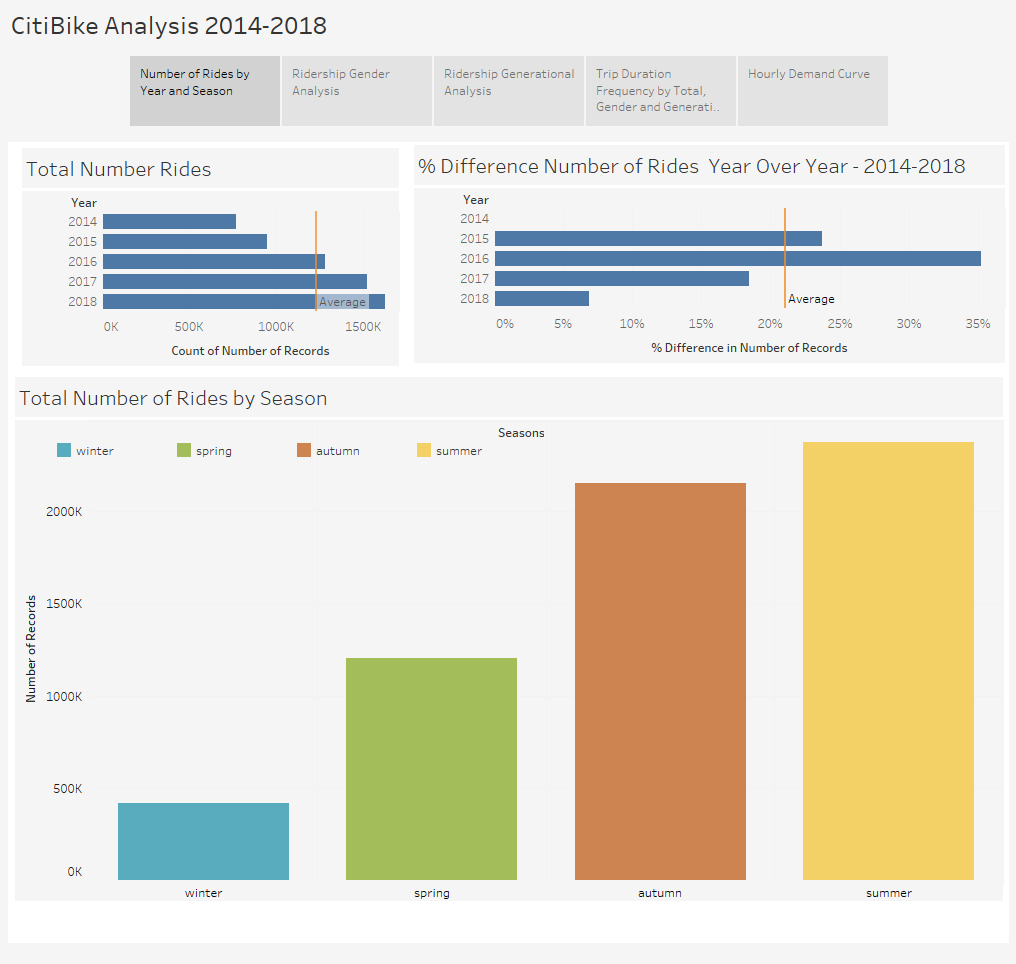

This screenshot's page, from the dashboard's own definition file:
{"tool":"tableau","page":{"name":"Dashboard 2","canvas":[1000,800],"ordinal":0},"visuals":[{"type":"worksheet","title":"% Difference Number of Rides  Year Over Year - 2014-2018","mark":"Automatic","rows":["Year"],"box":[406,3,591,252]},{"type":"worksheet","title":"Total Number Rides","mark":"Automatic","rows":["Year"],"cols":["Number of Records"],"box":[14,6,388,255]},{"type":"worksheet","title":"Total Number of Rides by Season","mark":"Automatic","rows":["Number of Records"],"cols":["Seasons"],"box":[7,235,988,524]},{"type":"legend","title":"Total Number of Rides by Season","param":"[federated.0h4x5iq1kgljpg14seqdx17qmbxy].[none:Seasons:nk]","box":[46,280,490,47]}]}

Visuals, with their boxes on the page's 1000x800 design canvas (x1, y1, x2, y2). These are canvas units, not pixel positions in the 1016x964 screenshot, which may show the page scaled, cropped or inside an application window:
"% Difference Number of Rides  Year Over Year - 2014-2018" worksheet: x1=406 y1=3 x2=997 y2=255
"Total Number Rides" worksheet: x1=14 y1=6 x2=402 y2=261
"Total Number of Rides by Season" worksheet: x1=7 y1=235 x2=995 y2=759
"Total Number of Rides by Season" legend: x1=46 y1=280 x2=536 y2=327
